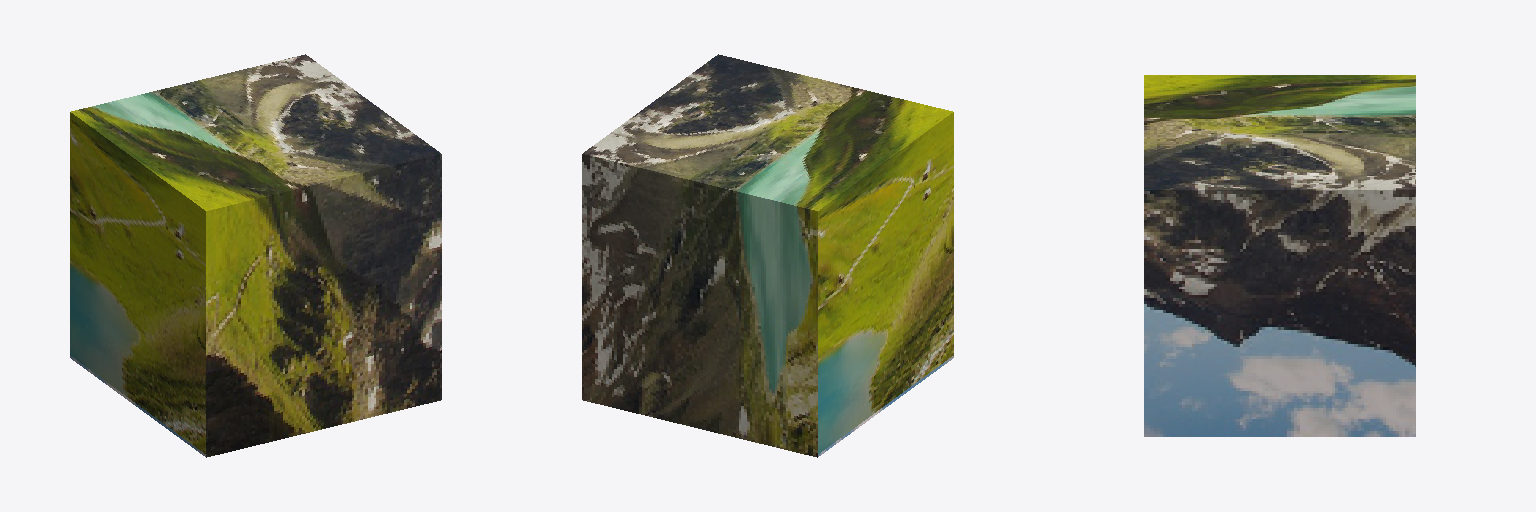
3 views of the same model, side by side, from view 1: azimuth 30°, elevation 25°; view 2: azimuth 150°, elevation 25°; view 3: azimuth 270°, elevation 25° (orthographic).
Parts seen in each view (by area): view 1: cube; view 2: cube; view 3: cube.
Boxes of the visible parts, x1,y1,x2,y2 form: cube: [70, 54, 441, 457]; cube: [582, 54, 953, 457]; cube: [1144, 75, 1415, 436].
Bounding box in the file's own units: 2 × 2 × 2.
Materials: 1 (1 with a texture image).